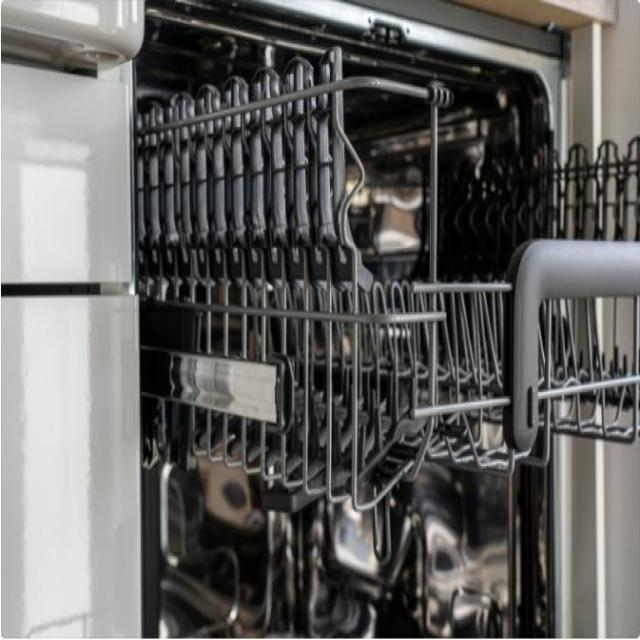dishwasher: (146, 0, 639, 639)
